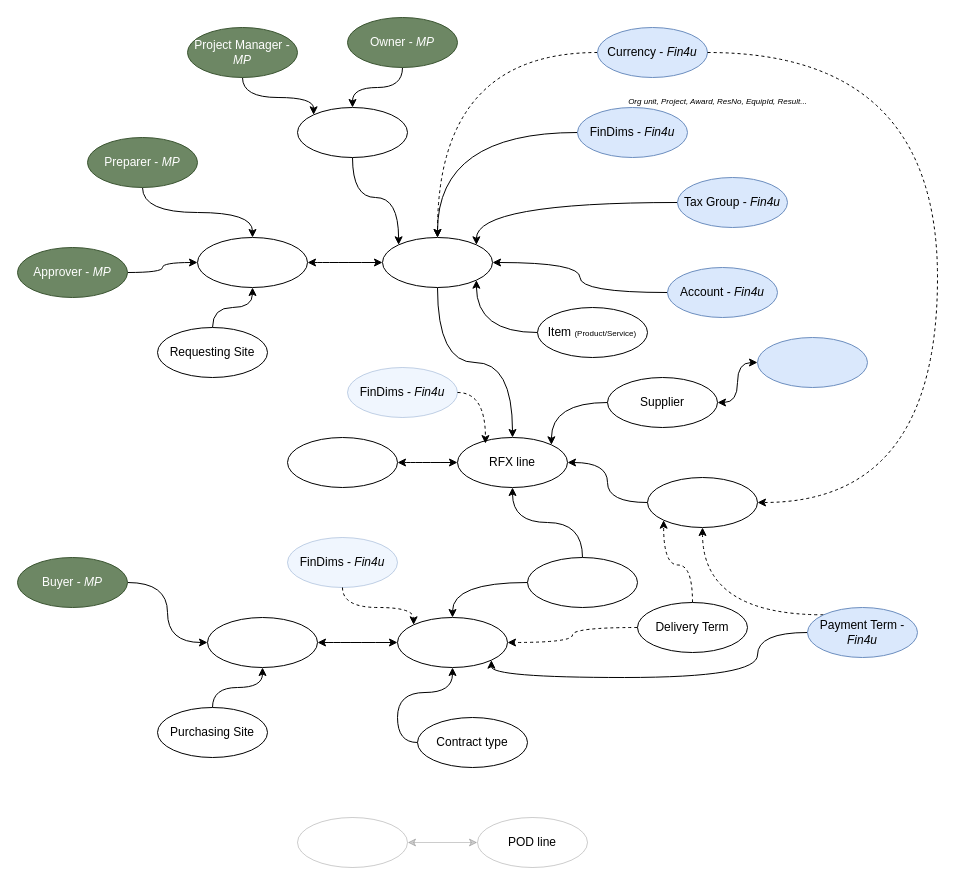
The diagram is 955 pixels wide and 885 high, and some of its shapes have lost their labels. The centre of each missing label's shape, as x and y in pixels:
Award Choice: (x=582, y=582)
PO header: (x=262, y=642)
PO line: (x=452, y=642)
POD header: (x=352, y=842)
PR header: (x=252, y=262)
PR line: (x=437, y=262)
Project - Fin4u: (x=352, y=132)
Reply/Bid: (x=702, y=502)
RFX header: (x=342, y=462)
Vendor - Fin4u: (x=812, y=362)
